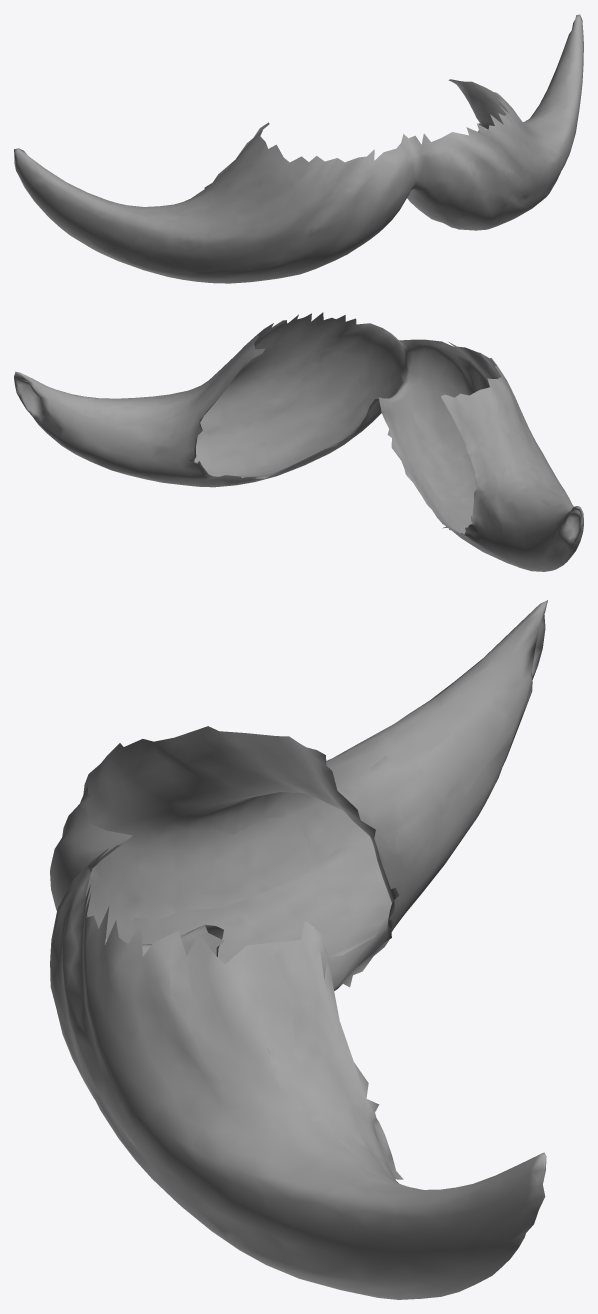
The model's file is beard_moustache.glb.
The picture shows the model from 3 angles, top to bottom: view 1: azimuth 30°, elevation 25°; view 2: azimuth 150°, elevation 25°; view 3: azimuth 270°, elevation 25°; orthographic projection. The views are drawn at different scales.
Parts seen in each view (by area): view 1: Hair; view 2: Hair; view 3: Hair.
Part boxes in pixels (bbox=[...]): Hair: bbox=[14, 14, 583, 283]; Hair: bbox=[14, 312, 583, 571]; Hair: bbox=[50, 600, 547, 1299].
Bounding box in the file's own units: 0.7116 × 0.1773 × 0.2702.
1 material, 1 textured.
